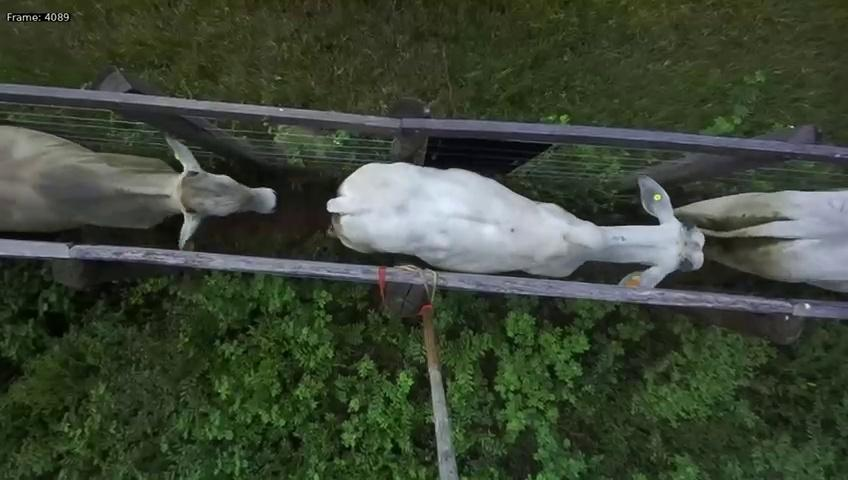cattle: (316, 148, 712, 297), (0, 116, 284, 246)
